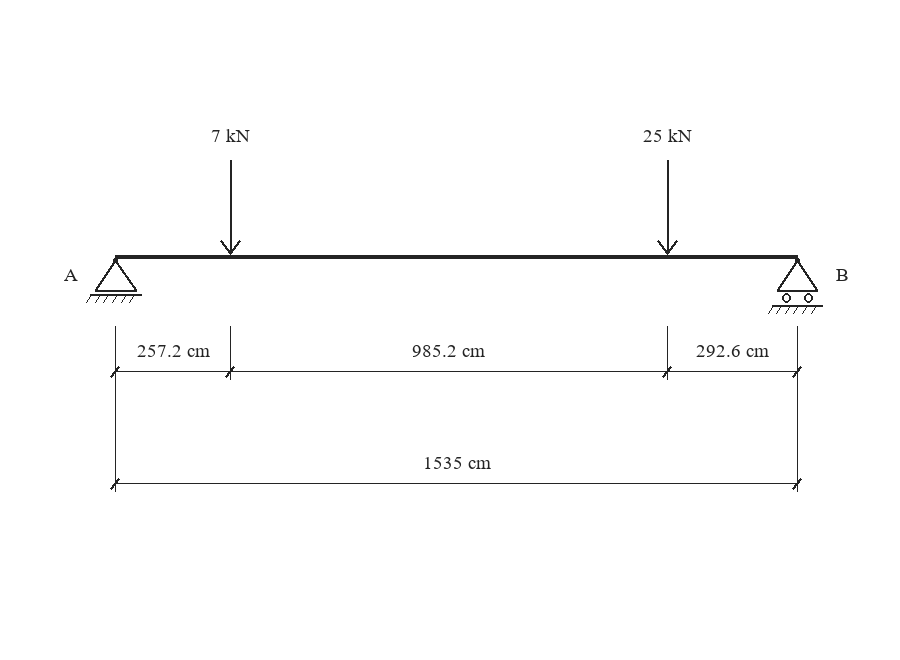pin_support: (86, 258, 142, 303)
point_load: (220, 160, 241, 255), (657, 160, 678, 255)
roller_support: (768, 258, 823, 314)
